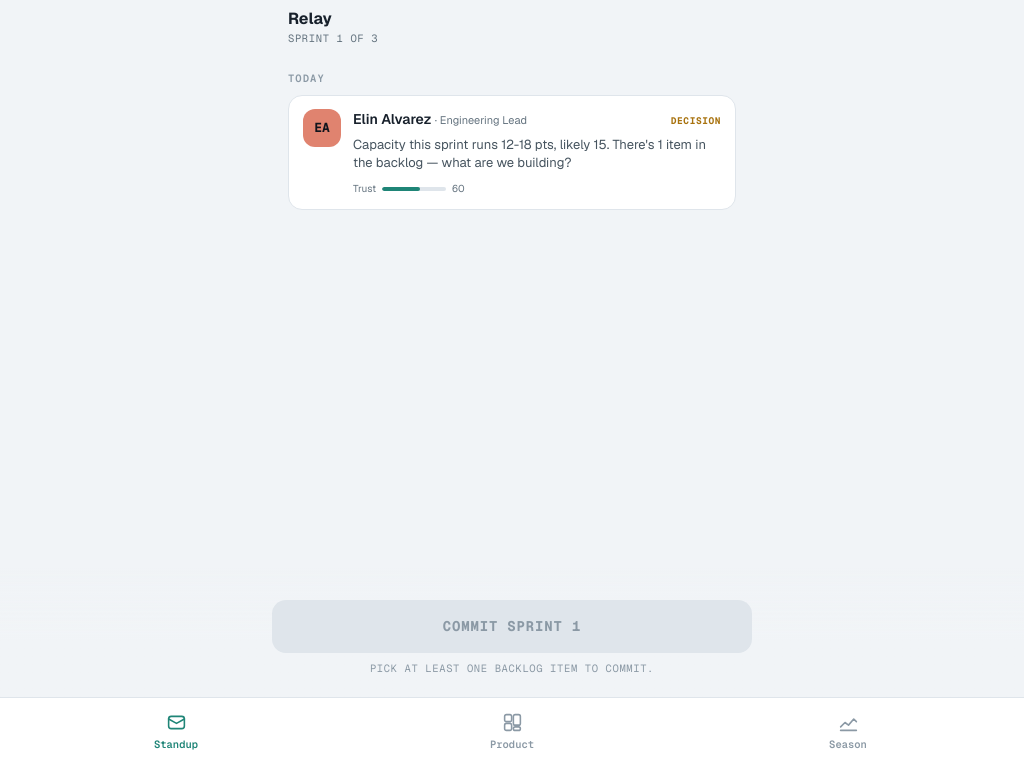
Test: SimTabs › switches to the Season tab and renders the live-run Season screen (W3-F)
The width and height of the screenshot is (1024, 761).
Click the tab "Season" at [848, 734], box [680,706,1016,760]
(page scrolled)
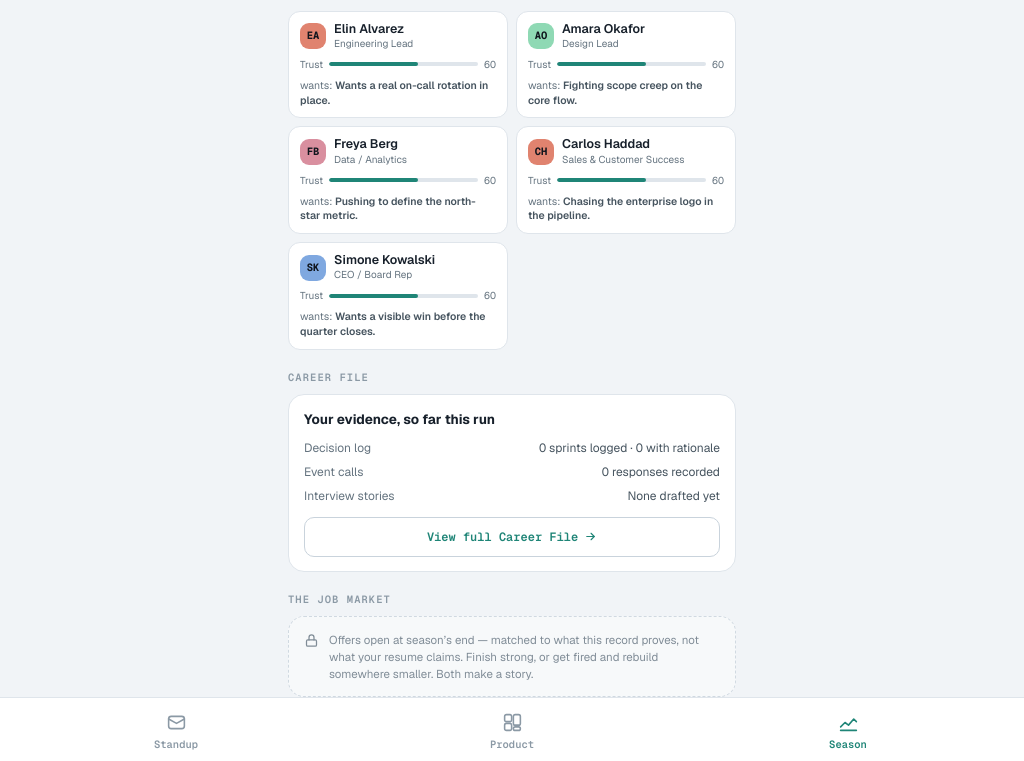
Expected: the text "Engineering Lead" is shown, [334,36,413,51]
Now the heading "Your evidence, so far this run" is shown, box [304,410,495,428]
Now the text "Offers open at season.s end" is shown, box [329,632,699,681]
